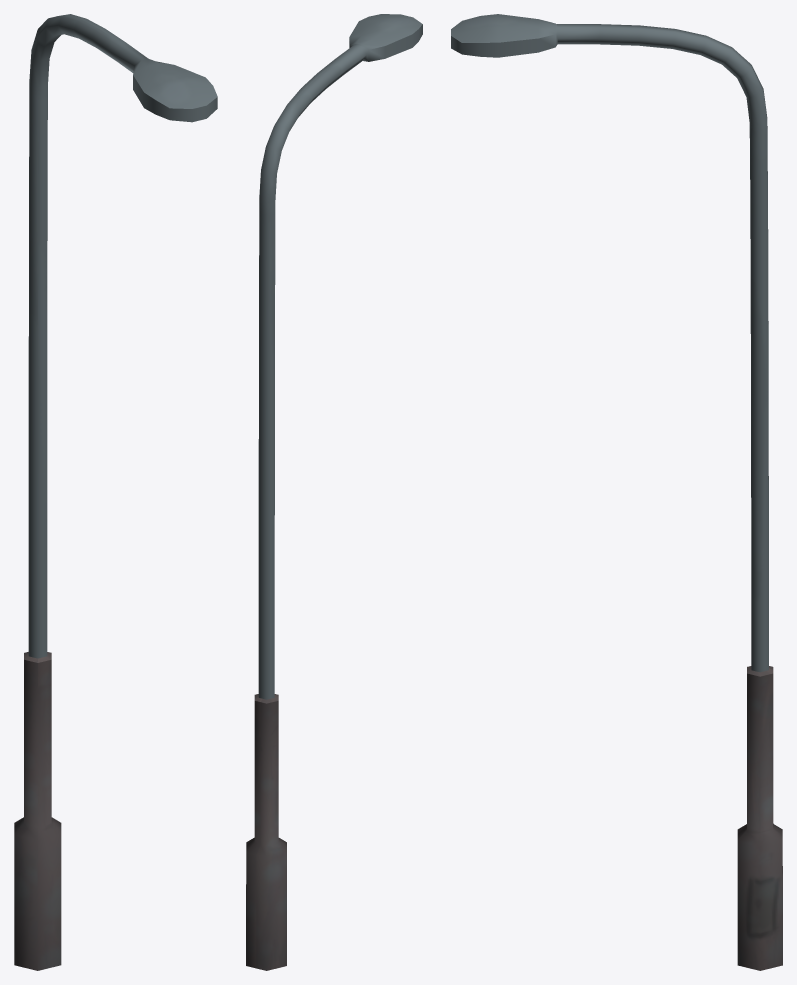
File: lamppost.fbx
The picture shows the model from 3 angles, left to right: view 1: azimuth 30°, elevation 25°; view 2: azimuth 150°, elevation 25°; view 3: azimuth 270°, elevation 25°; orthographic projection. The views are drawn at different scales.
Visible parts, largest first — view 1: BezierCurve.003; view 2: BezierCurve.003; view 3: BezierCurve.003.
Boxes of the visible parts, bbox=[...] form: BezierCurve.003: bbox=[14, 14, 217, 970]; BezierCurve.003: bbox=[246, 14, 422, 970]; BezierCurve.003: bbox=[451, 14, 782, 970].
Bounding box in the file's own units: 40 × 607 × 195.
